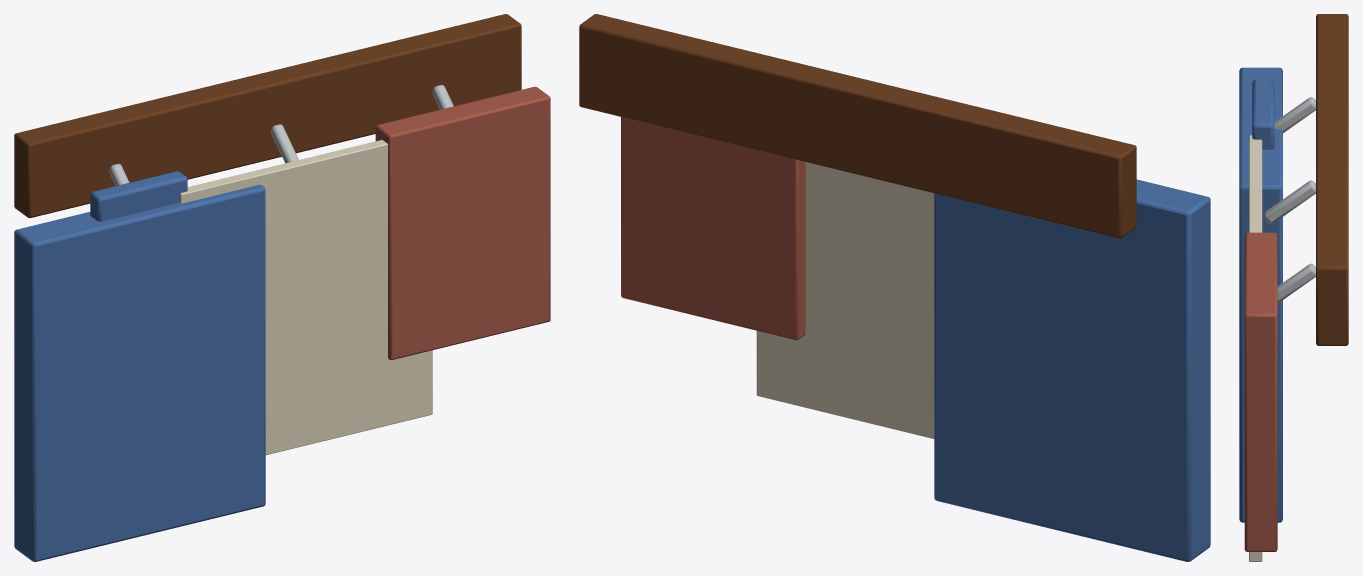
Rendered from MocAo_KhanTam.glb.
3 renders of one model, left to right at view 1: azimuth 30°, elevation 25°; view 2: azimuth 150°, elevation 25°; view 3: azimuth 270°, elevation 25°, orthographic. The views are drawn at different scales.
Parts seen in each view (by area): view 1: MocAo_KhanTam; view 2: MocAo_KhanTam; view 3: MocAo_KhanTam.
Part boxes in pixels (x1,y1,x2,y2): MocAo_KhanTam: [14, 14, 550, 561]; MocAo_KhanTam: [579, 14, 1210, 561]; MocAo_KhanTam: [1239, 14, 1348, 561].
Size of the model in its own units: 0.585 by 0.41 by 0.1.
